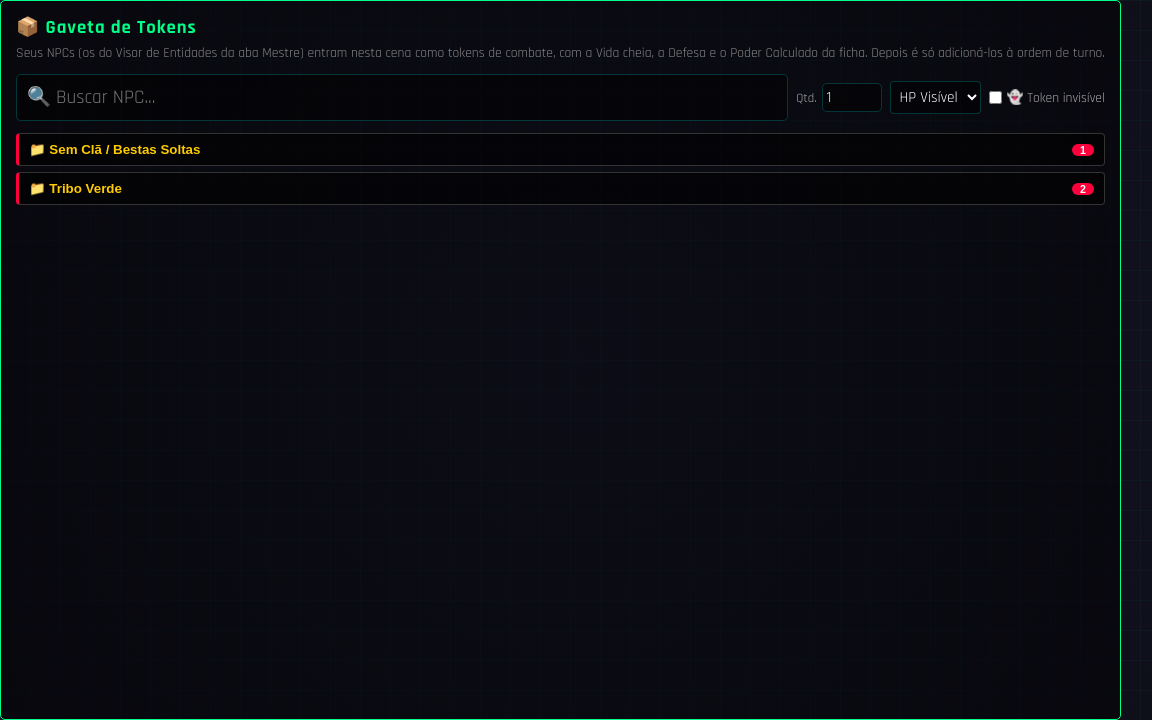
Scenario: Gaveta de Tokens - lista de NPCs por familia › clicar de novo recolhe a familia
Step 1. Click the button "📁 Tribo Verde 2" → (86, 188), box [16, 172, 1105, 205]
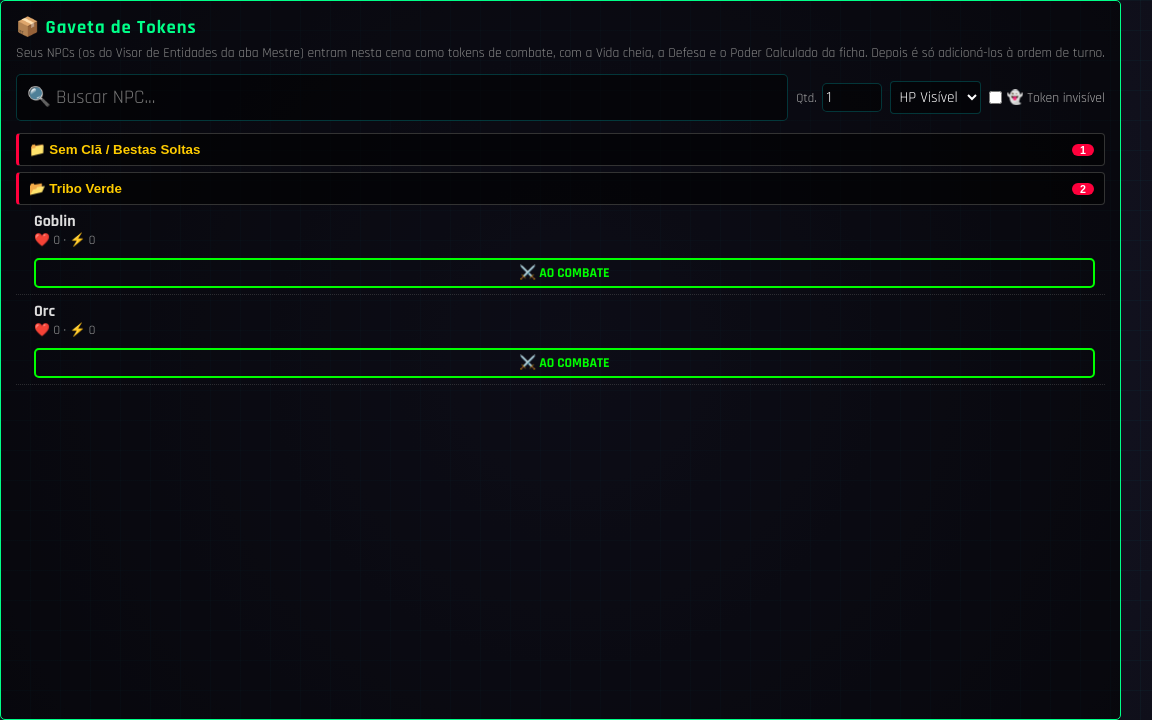
Step 2. Click the button "📂 Tribo Verde 2" → (86, 188), box [16, 172, 1105, 205]
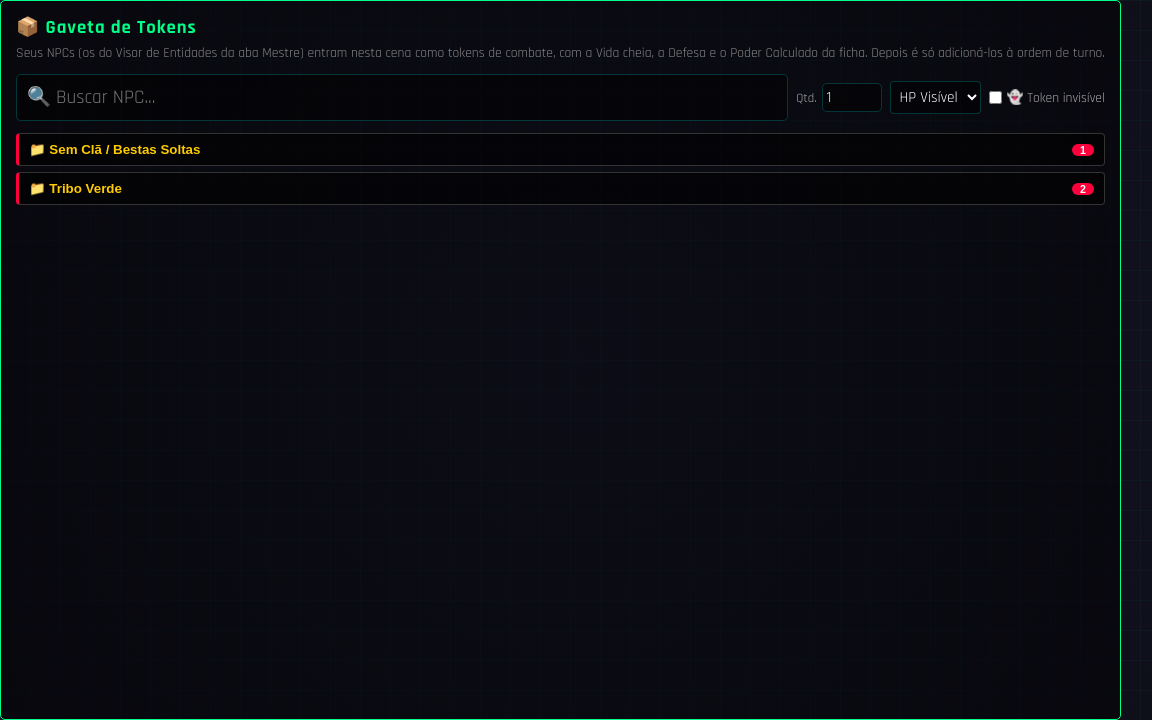
Result: the text "Goblin" is gone
